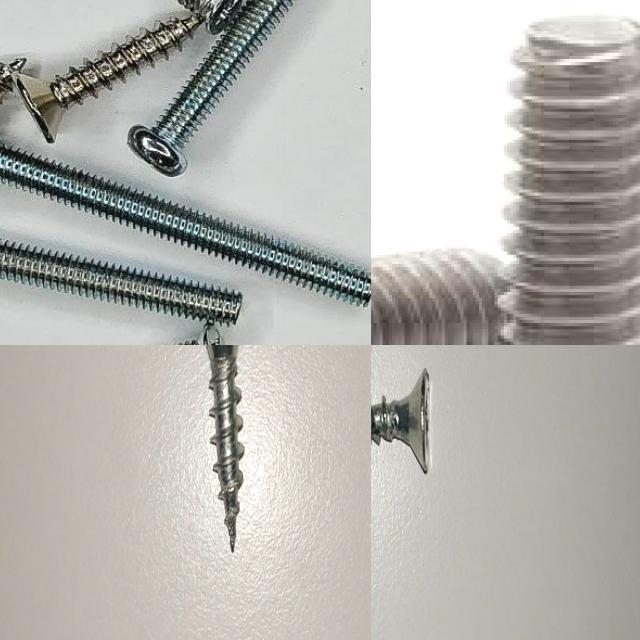Screw: (0, 143, 371, 307), (495, 15, 640, 345), (128, 0, 294, 175), (13, 15, 201, 142), (0, 240, 243, 326), (206, 345, 244, 551), (371, 369, 430, 473), (177, 0, 241, 33)
